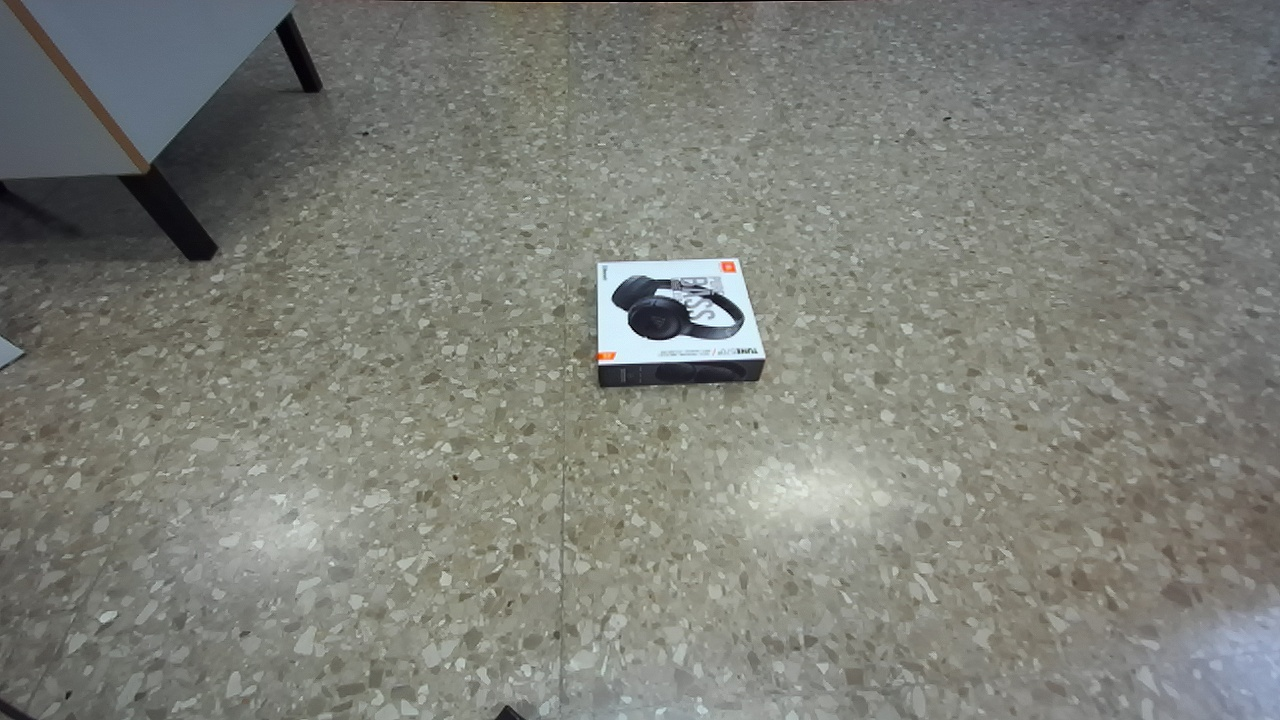caja_chasis: (596, 258, 765, 386)
